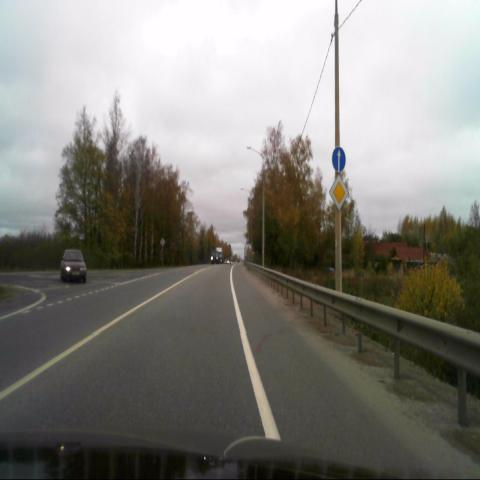2_1: (328, 176, 348, 210)
4_1_1: (331, 146, 346, 173)
